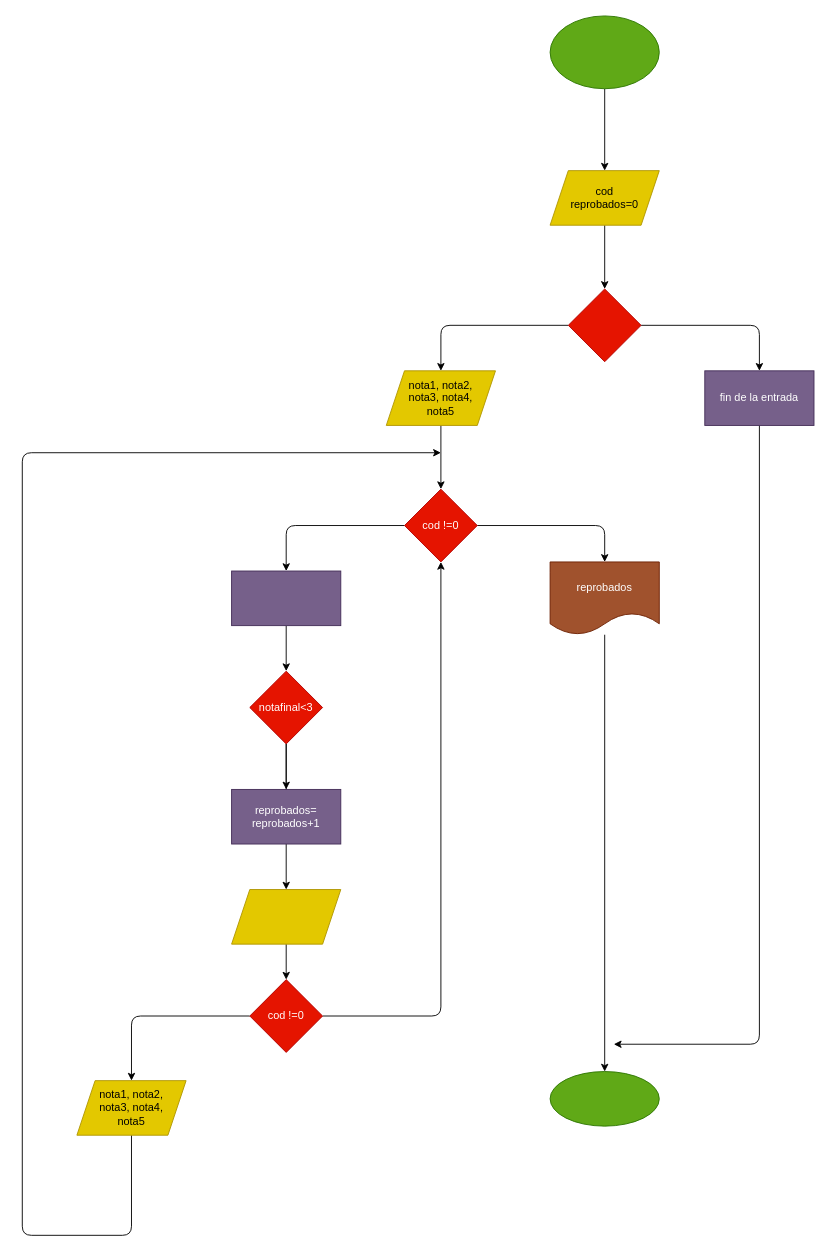
This 830x1259 diagram has some shape labels left out. The shapes that lost their labels are listed below. From the top down, each one's centre as x and y in pixels, then its label:
At (x=604, y=52): "inicio".
At (x=604, y=325): "cod!=0".
At (x=286, y=598): "nota final= (nota1+nota2+nota3 +nota4+nota5)/3".
At (x=286, y=916): "cod".
At (x=604, y=1098): "fin".
